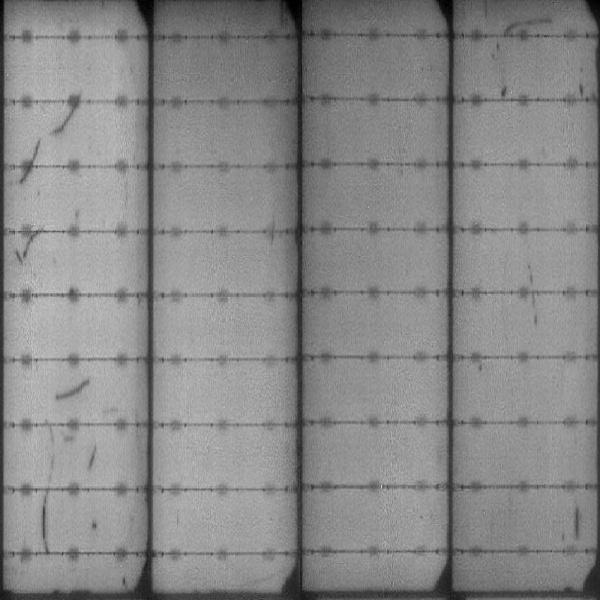scratch: (521, 258, 546, 333), (53, 92, 81, 134), (18, 141, 40, 182), (498, 18, 553, 34), (39, 494, 52, 551), (85, 442, 105, 474), (54, 382, 88, 399), (16, 236, 36, 264), (572, 505, 582, 536)
